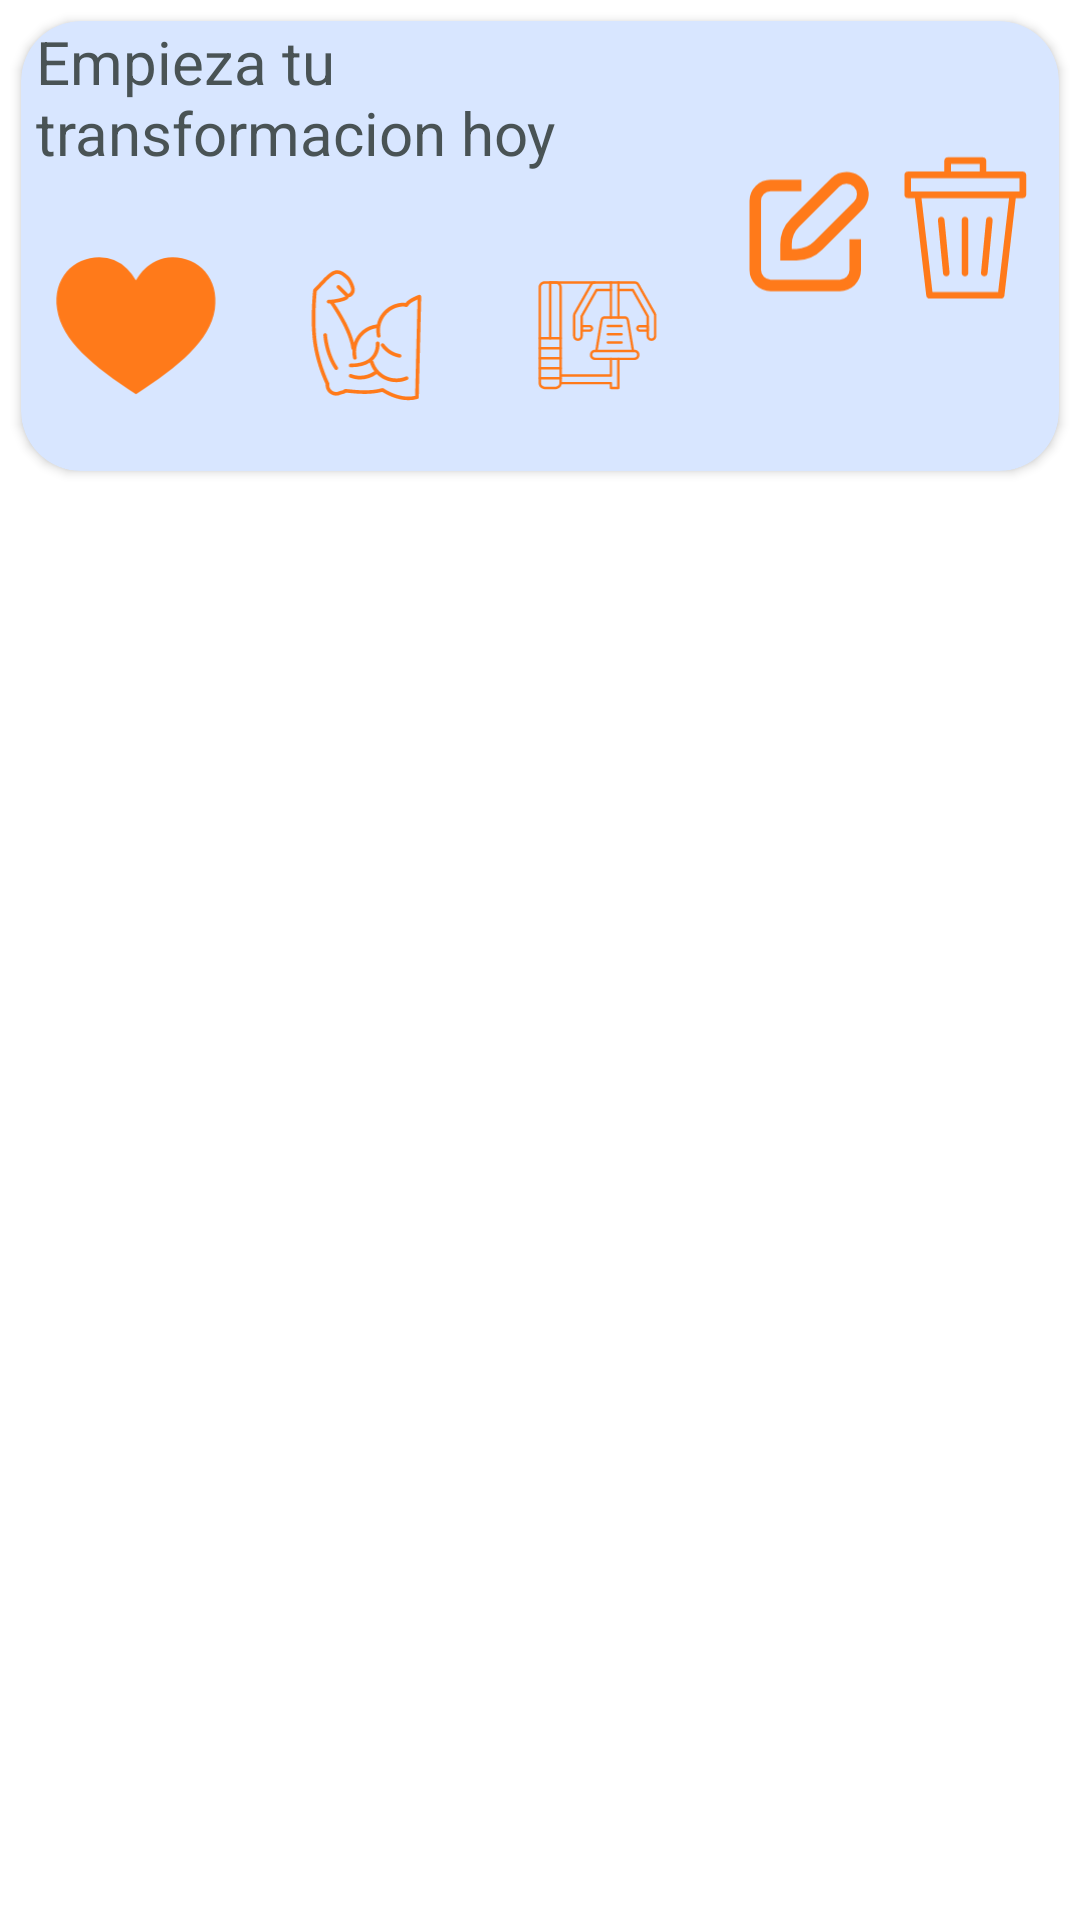

Icons on this 1080w x 1920h Android screen, each with the point to tap as point (x, y):
brazos: point (366, 335)
corazon: point (136, 325)
editar rutina: point (809, 231)
maquina: point (597, 335)
